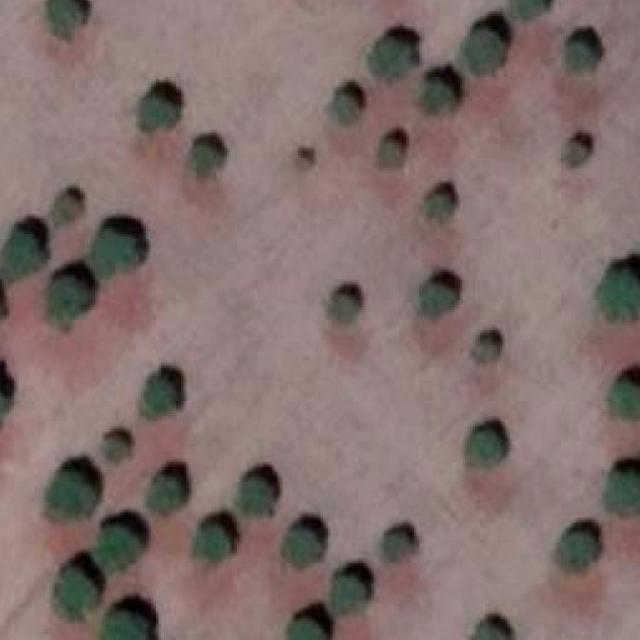Tree: (54, 568, 97, 622), (89, 232, 143, 275), (47, 475, 95, 520), (95, 528, 144, 571), (599, 269, 640, 320), (0, 228, 40, 277), (47, 274, 87, 320), (465, 29, 503, 73), (141, 374, 179, 417), (464, 328, 507, 363), (146, 474, 184, 512), (371, 39, 411, 75), (561, 531, 596, 571), (421, 77, 457, 115), (193, 523, 229, 561), (138, 97, 178, 131), (330, 575, 364, 614), (610, 470, 640, 514), (106, 613, 154, 640), (47, 0, 83, 36), (287, 528, 320, 563), (467, 431, 500, 465), (241, 480, 274, 513), (424, 282, 455, 316), (193, 143, 222, 178), (614, 380, 640, 419), (566, 41, 597, 72), (288, 618, 327, 640), (337, 92, 361, 126), (384, 533, 412, 561), (508, 0, 543, 21), (52, 193, 77, 222), (472, 624, 507, 640), (565, 143, 588, 166), (429, 191, 450, 215), (104, 439, 128, 460), (381, 141, 399, 166), (335, 295, 356, 315)
